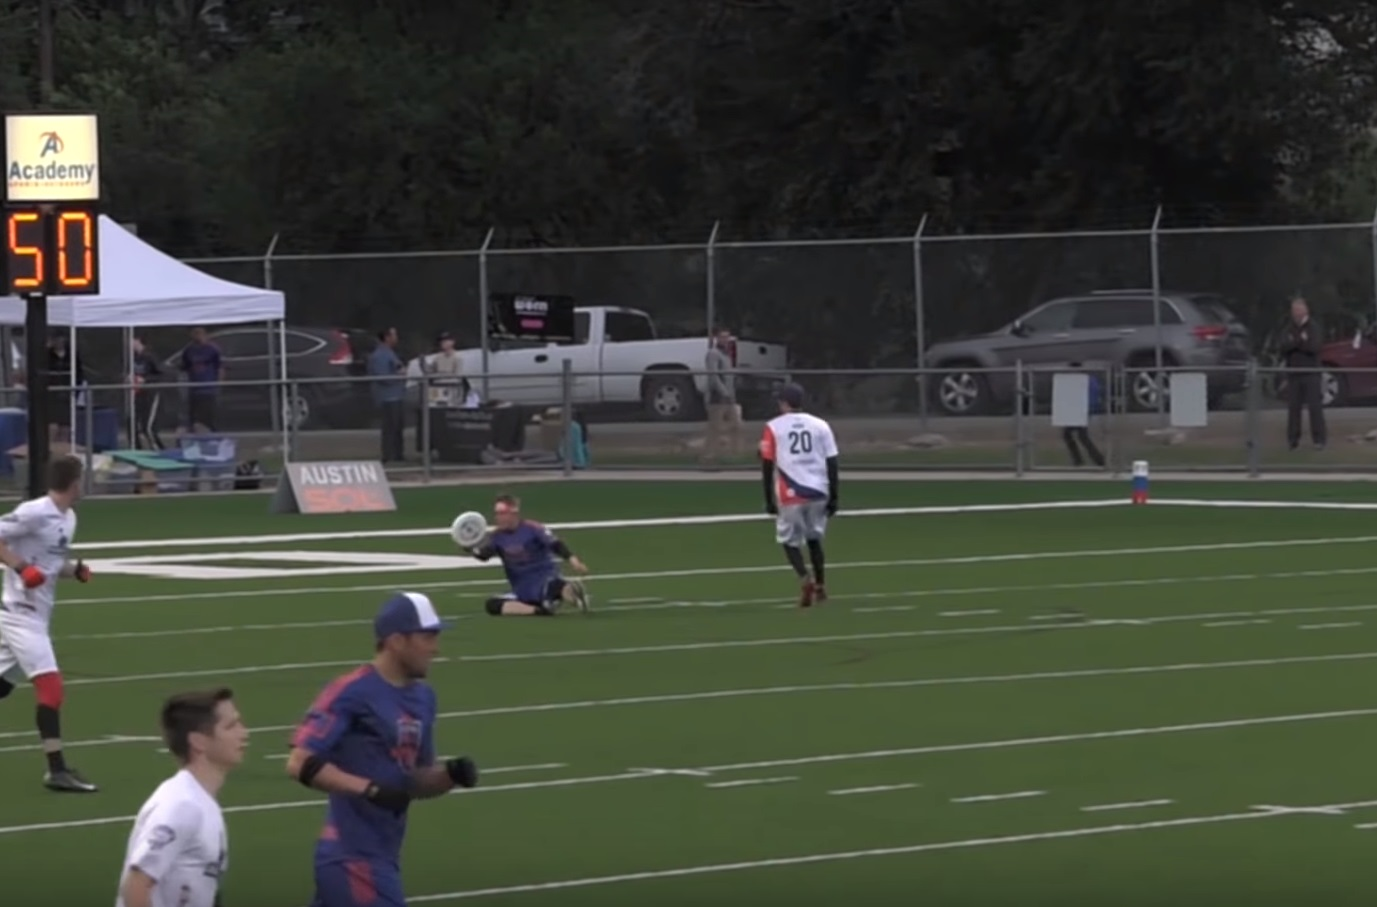frisbee: (450, 510, 488, 548)
